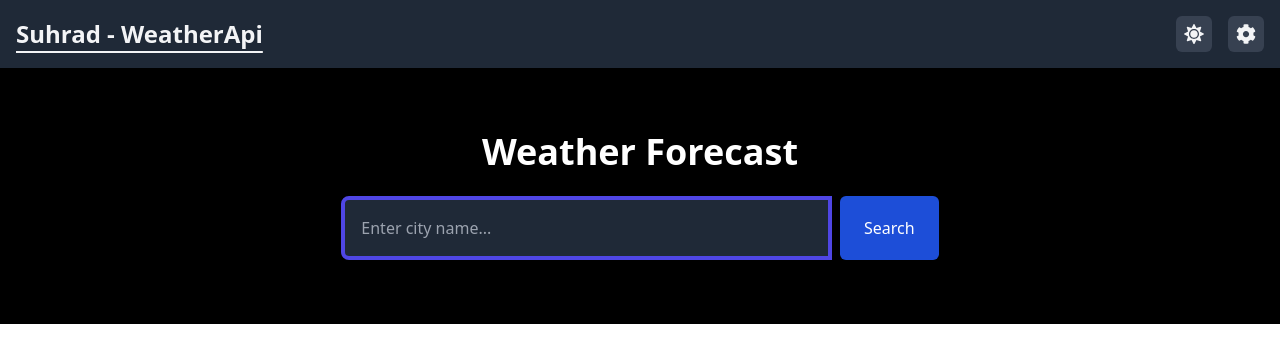
Test case: Navbar Component › opens and closes the settings dropdown
# Open dropdown
Click the button named "Settings": (1246,34) [1228,16,1264,52]
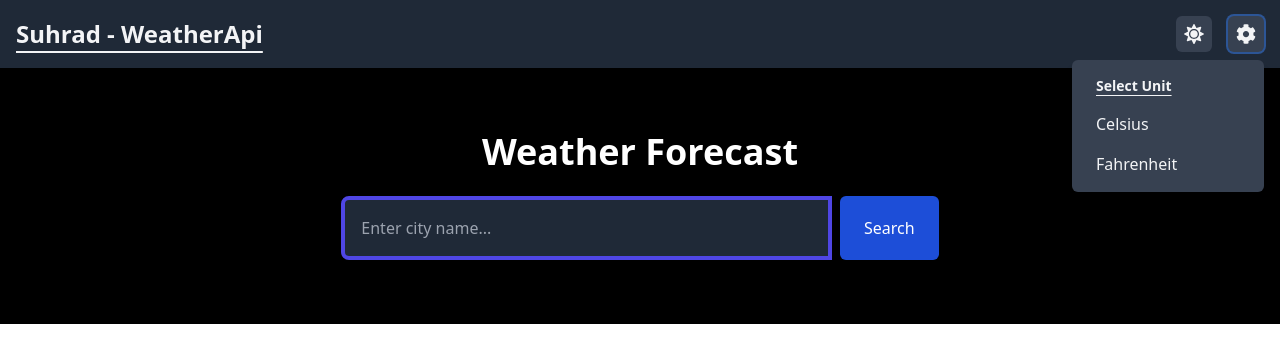
Result: the menu is shown at [1072,60,1264,192]
# Close dropdown by clicking outside
Click the element that starts with "Suhrad - WeatherApi": (0,0) [0,0,1279,324]
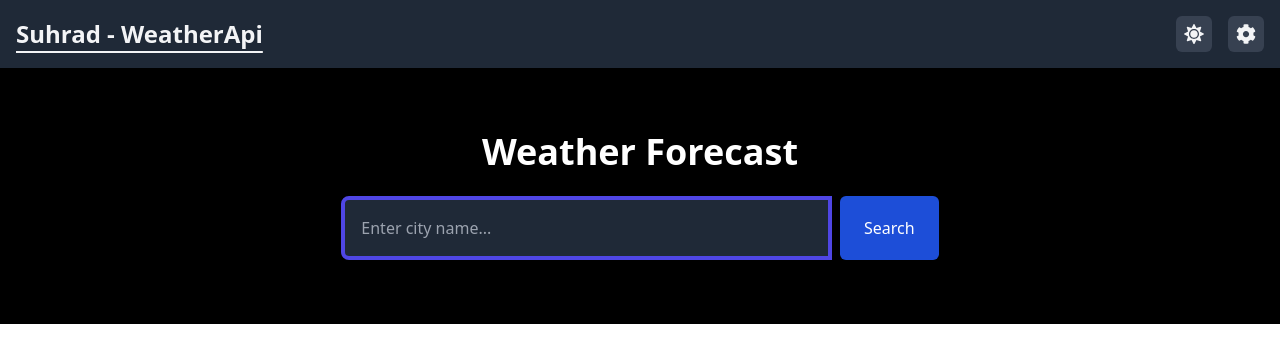
Result: the menu is gone
